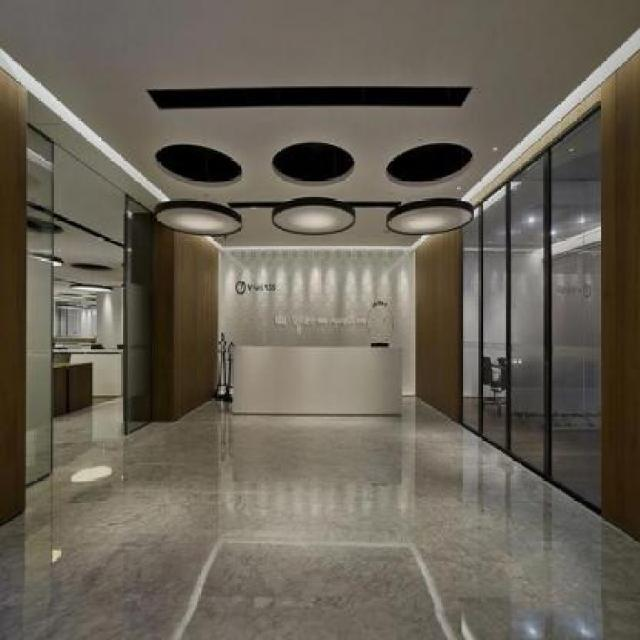frontdesk: (206, 334, 420, 421)
